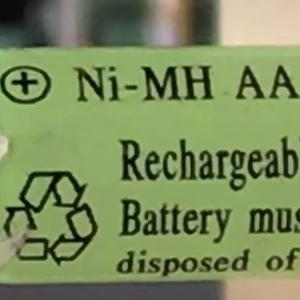NI-MH: (64, 56, 218, 112)
